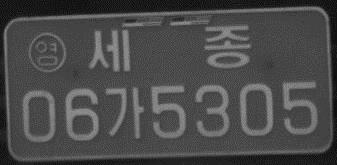0: (238, 81, 274, 138), (22, 89, 56, 143)
3: (194, 83, 231, 139)
5: (280, 78, 319, 136), (149, 83, 187, 140)
6: (64, 86, 101, 142)
가: (103, 85, 145, 141)
세종_D: (88, 23, 253, 72)
영: (28, 29, 68, 75)
